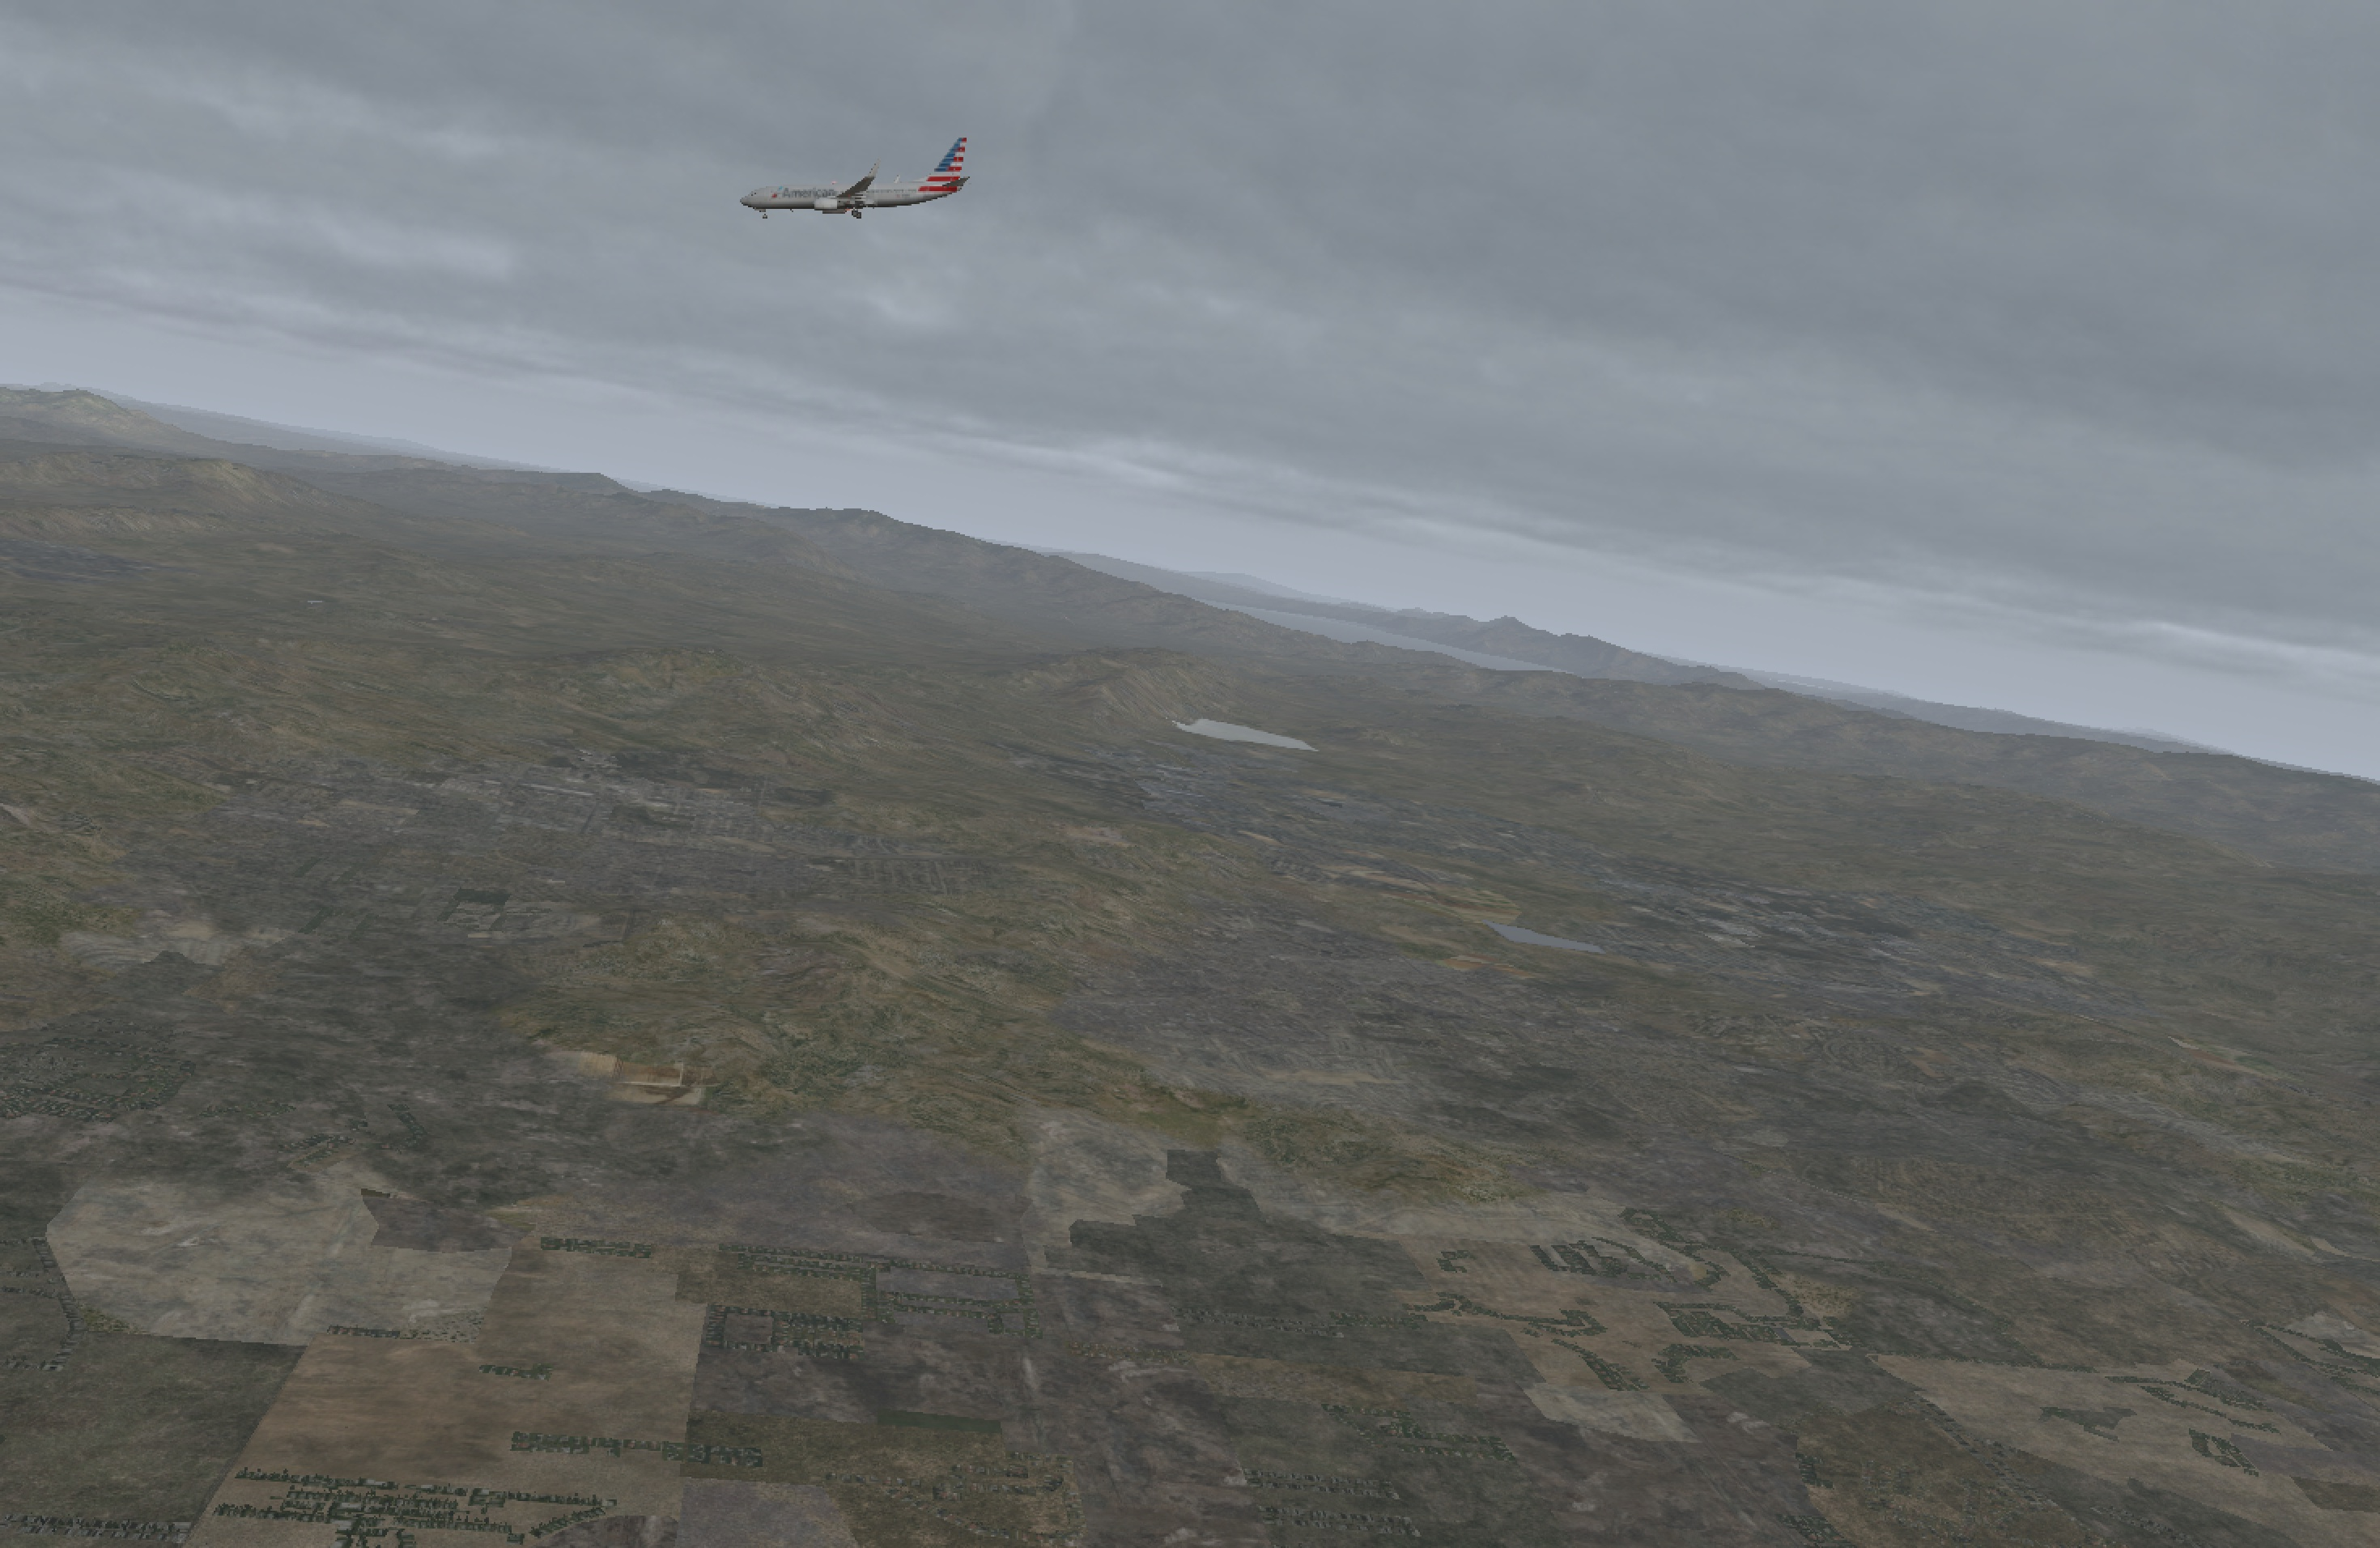aircraft: (737, 158, 958, 241)
